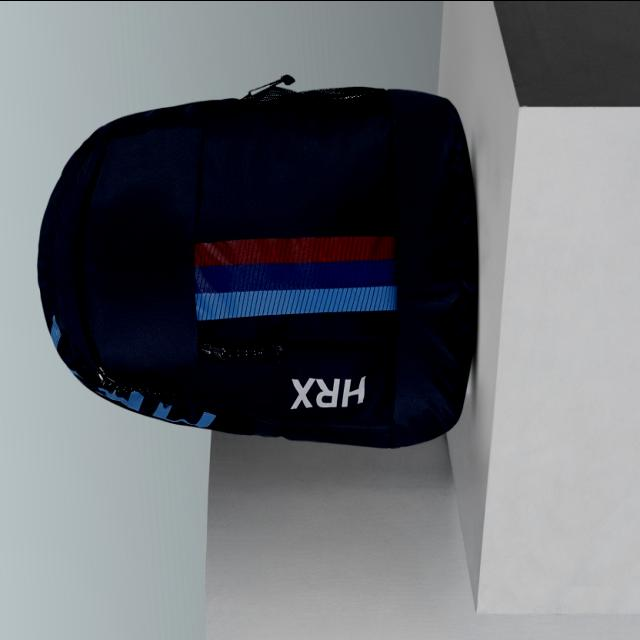backpack: (37, 77, 479, 450)
